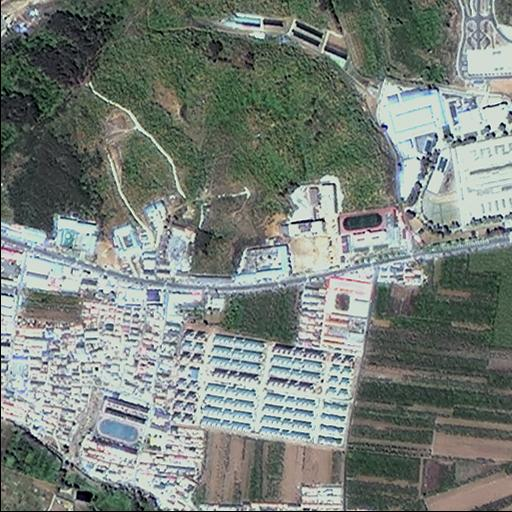school: (333, 203, 412, 264), (91, 393, 150, 457)
